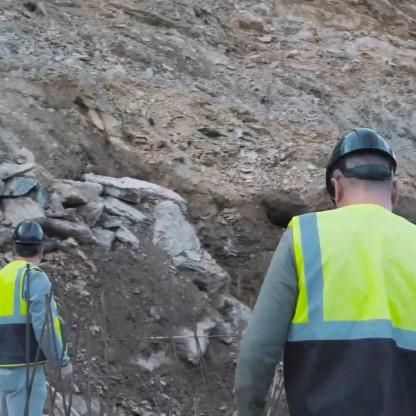helmet: (312, 131, 399, 226), (4, 215, 55, 274)
